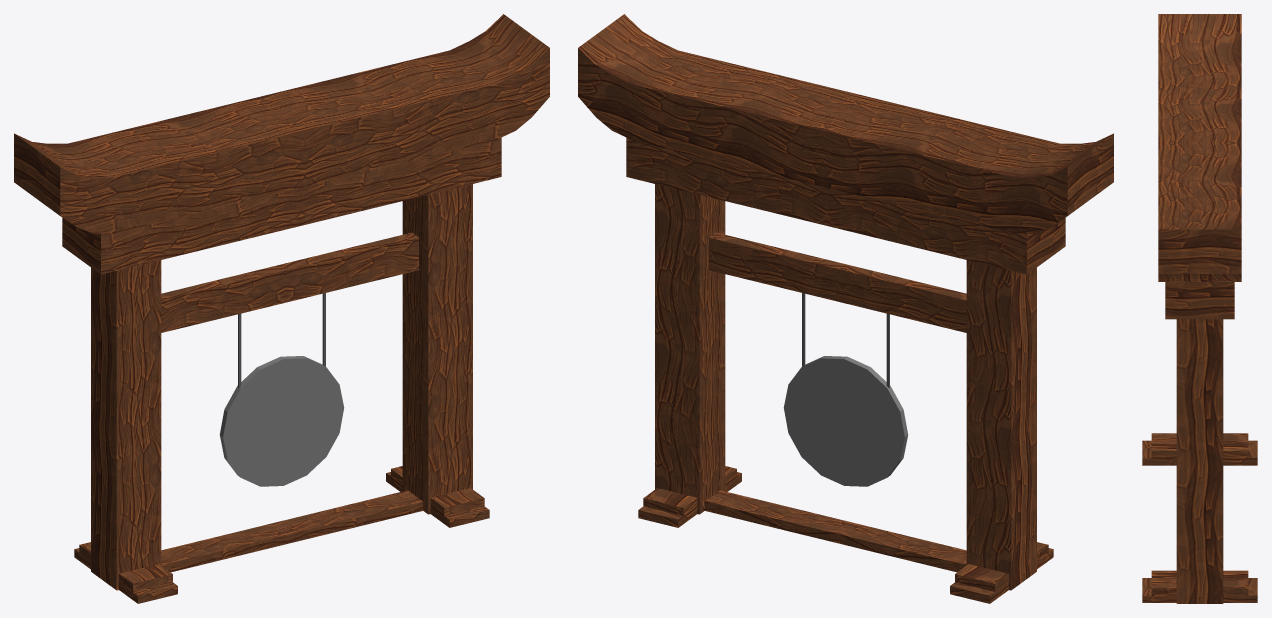
Rendered from gong.glb.
The picture shows the model from 3 angles, left to right: view 1: azimuth 30°, elevation 25°; view 2: azimuth 150°, elevation 25°; view 3: azimuth 270°, elevation 25°; orthographic projection. The views are drawn at different scales.
Visible parts, largest first — view 1: Cube; view 2: Cube; view 3: Cube.
Part boxes in pixels (x1=…): Cube: x1=14, y1=14, x2=549, y2=603; Cube: x1=578, y1=14, x2=1113, y2=603; Cube: x1=1142, y1=14, x2=1257, y2=603.
Size of the model in its own units: 22 by 19.2 by 4.96.
Materials: 3 (1 with a texture image).
